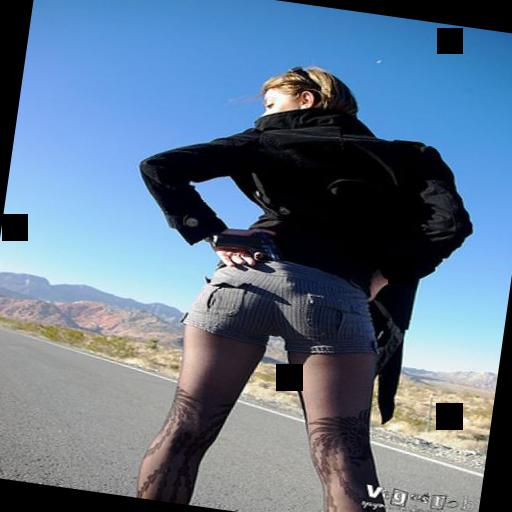Handgun: (206, 222, 284, 264)
